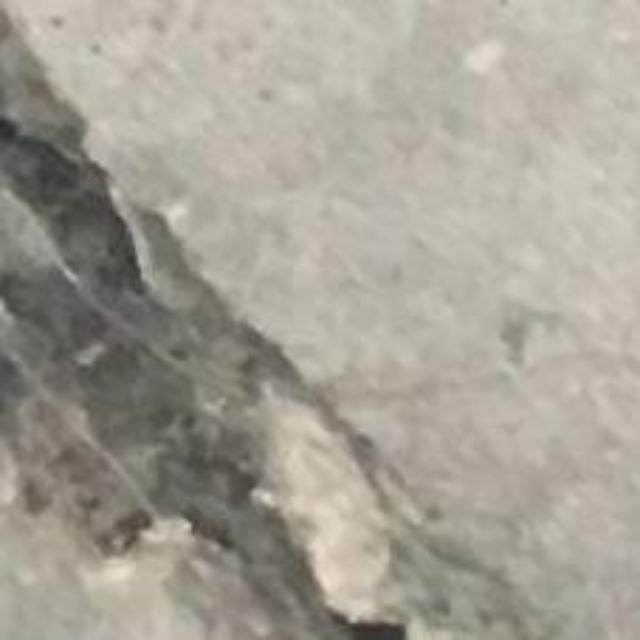crack: (0, 9, 530, 639)
